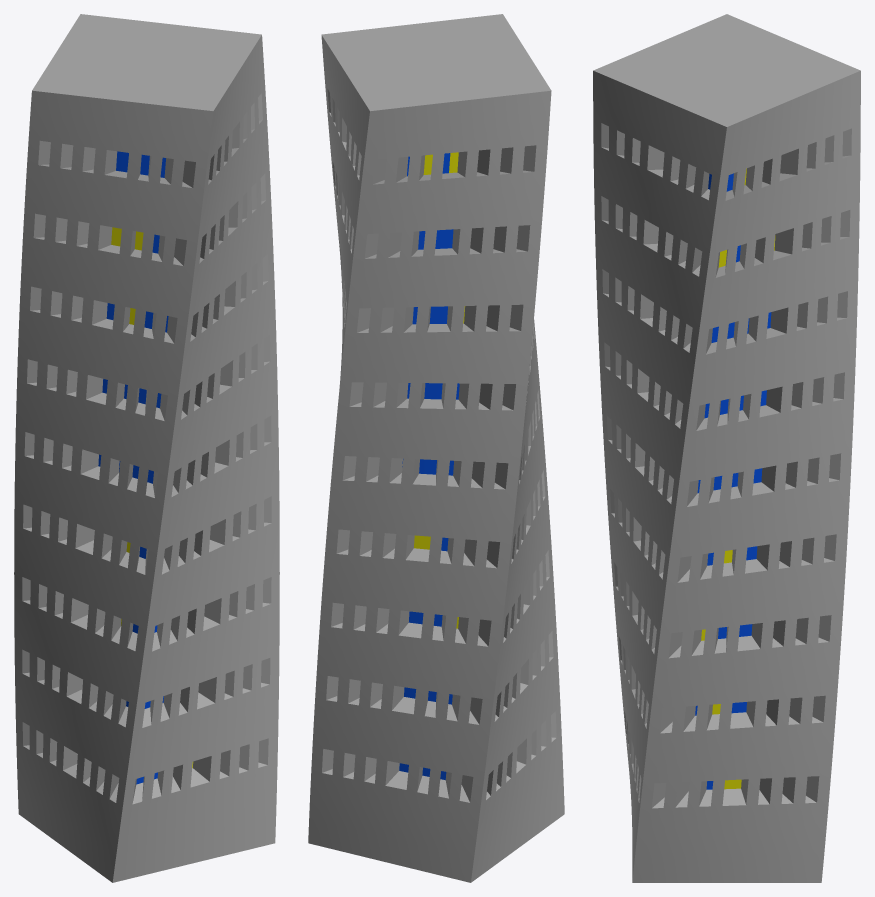
File: twistedHouse.fbx
3 views of the same model, side by side, from view 1: azimuth 30°, elevation 25°; view 2: azimuth 150°, elevation 25°; view 3: azimuth 270°, elevation 25° (orthographic).
Visible parts, largest first — view 1: pCube2; view 2: pCube2; view 3: pCube2.
Boxes of the visible parts, bbox=[...] form: pCube2: bbox=[14, 14, 279, 882]; pCube2: bbox=[308, 14, 564, 882]; pCube2: bbox=[593, 14, 860, 882].
Size of the model in its own units: 2.83 by 9 by 2.83.
